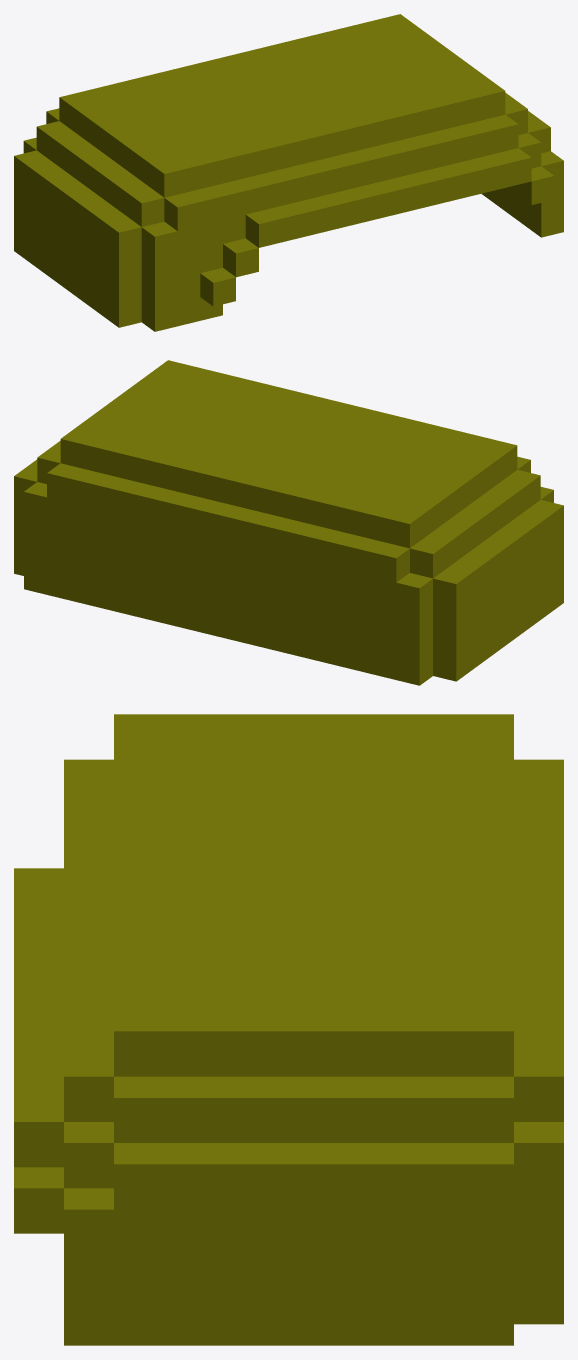
The model's file is accessories_head_helmet.glb.
3 renders of one model, top to bottom at view 1: azimuth 30°, elevation 25°; view 2: azimuth 150°, elevation 25°; view 3: azimuth 270°, elevation 25°, orthographic. The views are drawn at different scales.
Visible parts, largest first — view 1: model_0; view 2: model_0; view 3: model_0.
Part boxes in pixels (x1,y1,x2,y2): model_0: (14,14,563,331); model_0: (14,360,563,685); model_0: (14,714,563,1345).
Bounding box in the file's own units: 19 × 6 × 11.
